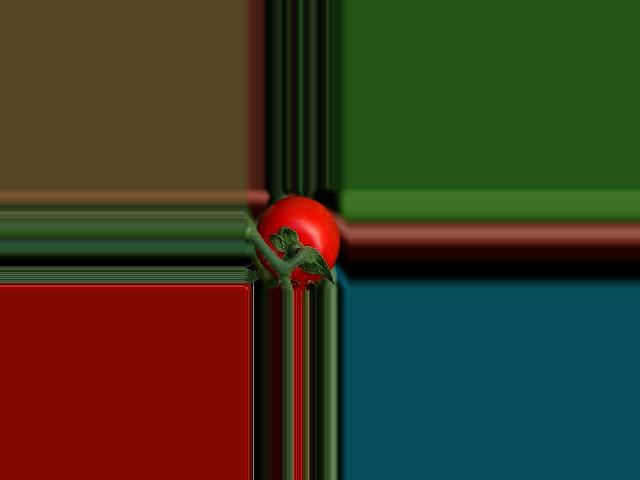tomato: (254, 196, 340, 288)
